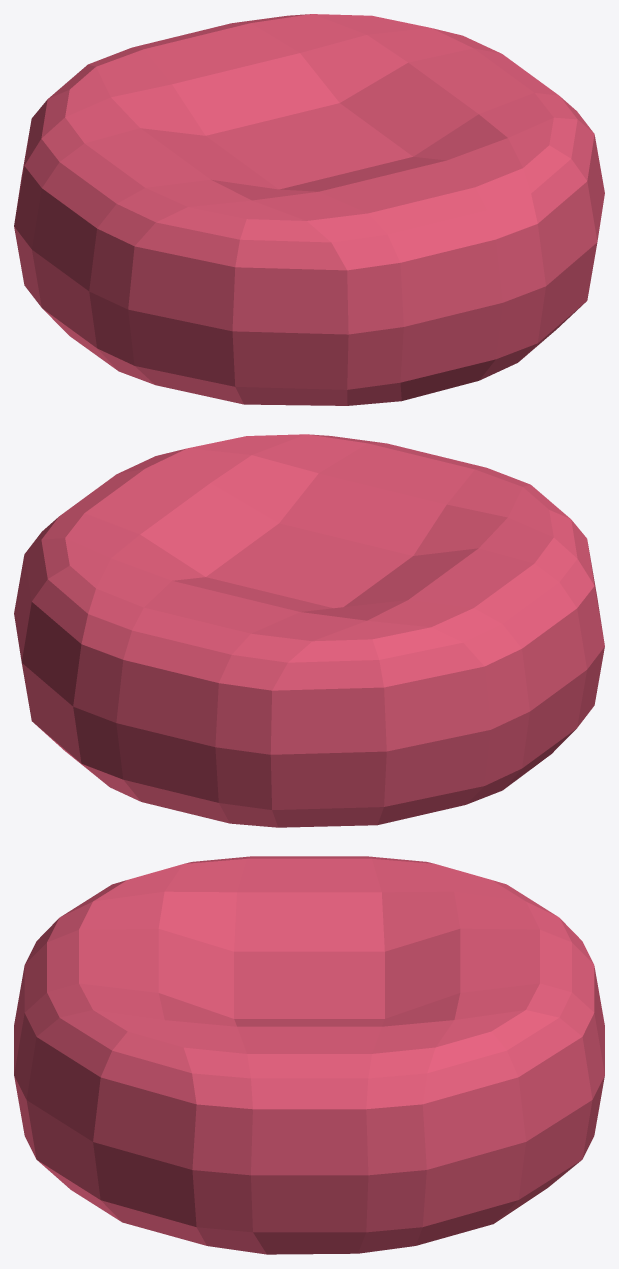
File: pufik.fbx
3 views of the same model, one above another, from view 1: azimuth 30°, elevation 25°; view 2: azimuth 150°, elevation 25°; view 3: azimuth 270°, elevation 25° (orthographic). The views are drawn at different scales.
Visible parts, largest first — view 1: Cylinder.001; view 2: Cylinder.001; view 3: Cylinder.001.
Part boxes in pixels (box(x1,y1,x2,y2)): Cylinder.001: box(14, 14, 604, 405); Cylinder.001: box(14, 434, 604, 827); Cylinder.001: box(14, 856, 604, 1254).
Size of the model in its own units: 73.71 by 26.21 by 73.71.
